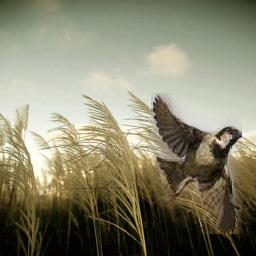Sparrow: (152, 94, 243, 235)
